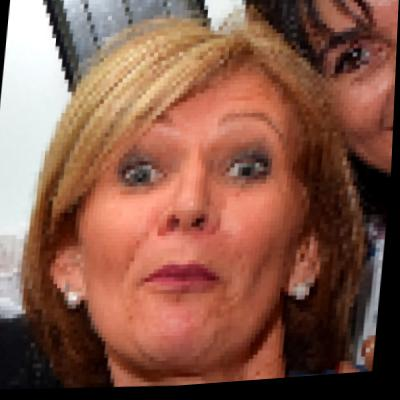surprise: (59, 38, 313, 377)
